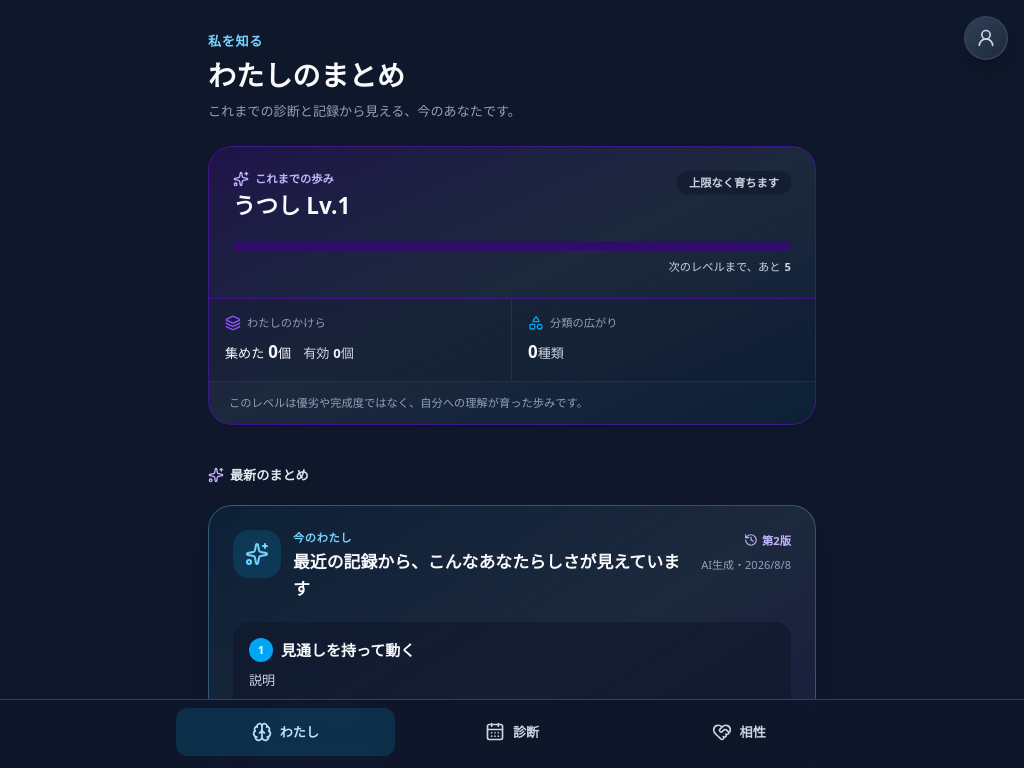
Scenario: App › 開発環境ではプロフィールからBrain Item一覧の別ページを開いて戻れる
Click the button named "プロフィールを開く" at (986,38), box [964, 16, 1008, 60]
(page scrolled)
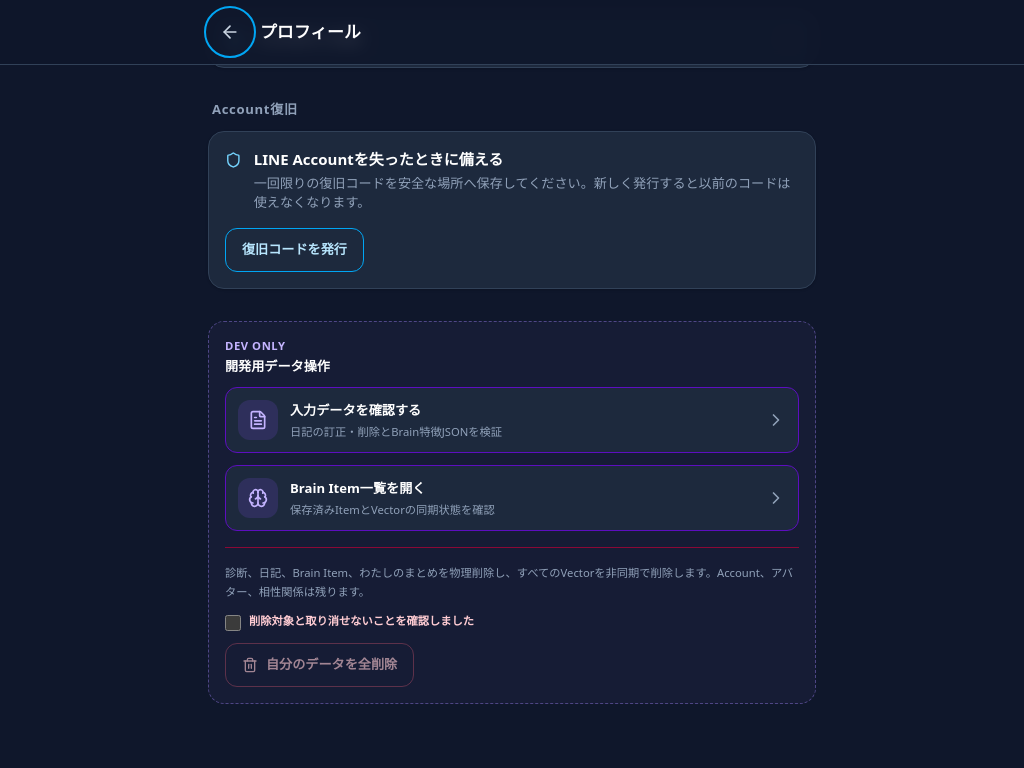
Click the link "Brain Item一覧を開く 保存済みItemとVectorの同期状態を確認" at (258,498), box [225, 465, 799, 531]
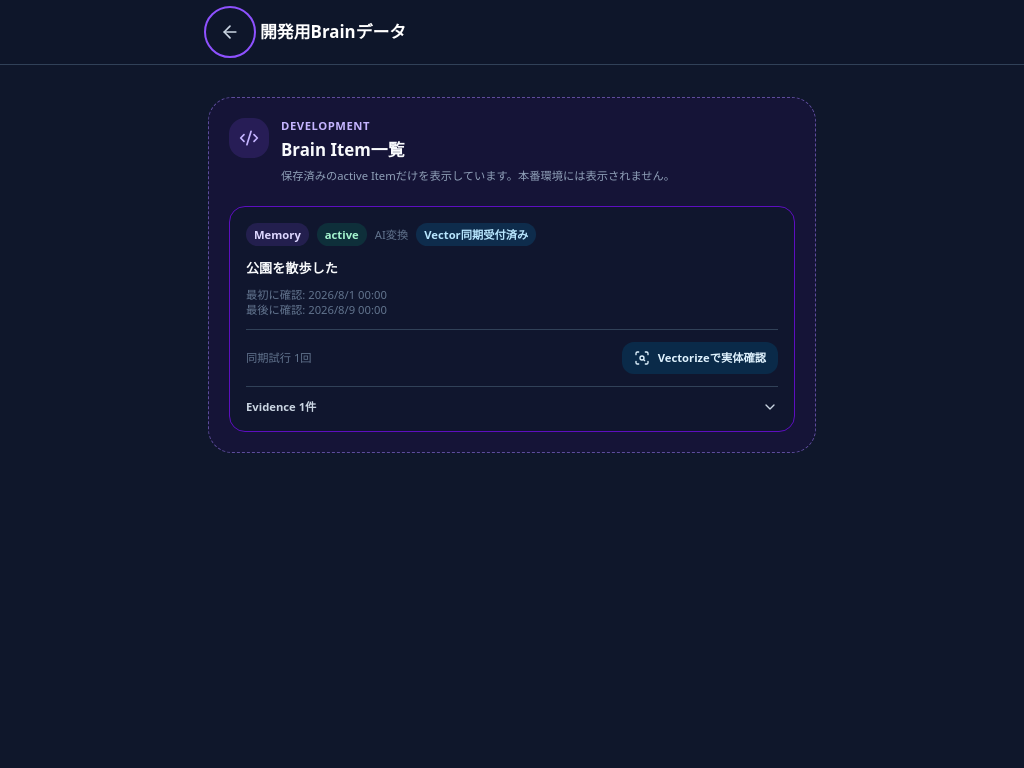
Expected: the dialog "開発用Brainデータ" is shown
Expected: the heading "Brain Item一覧" is shown, [281, 138, 404, 161]
Expected: the text "公園を散歩した" is shown, [246, 258, 338, 276]
Click the button named "プロフィールへ戻る" at (230,32), box [208, 10, 252, 54]
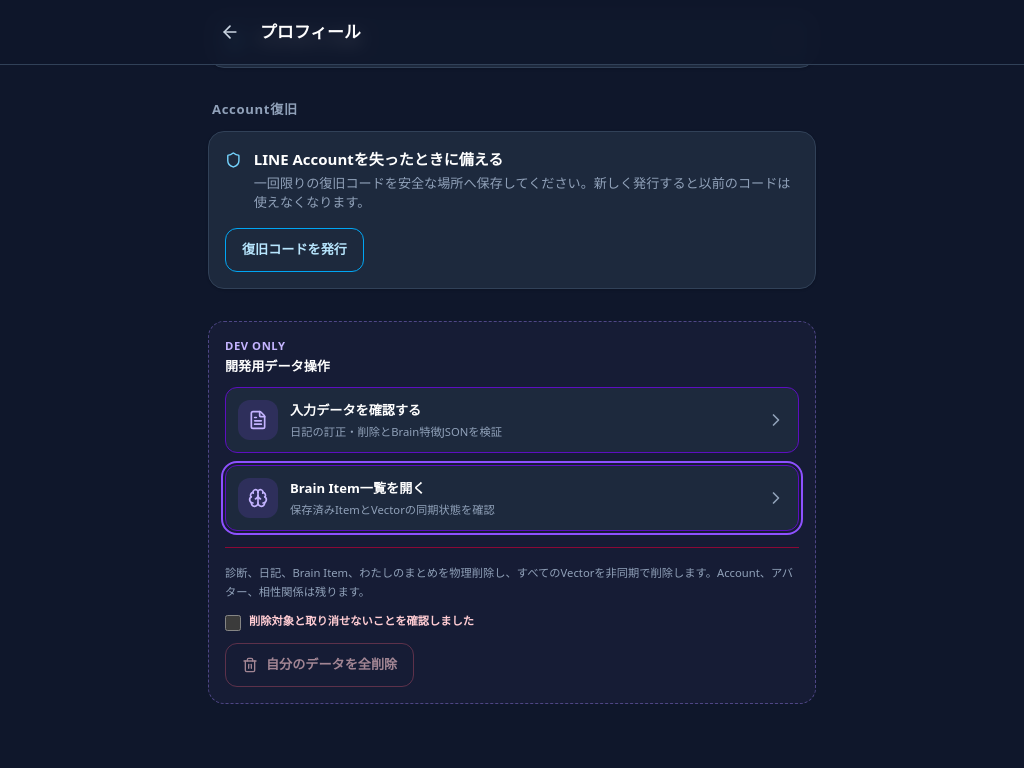
Expected: the dialog "プロフィール" is shown
Expected: the heading "開発用Brainデータ" is gone
